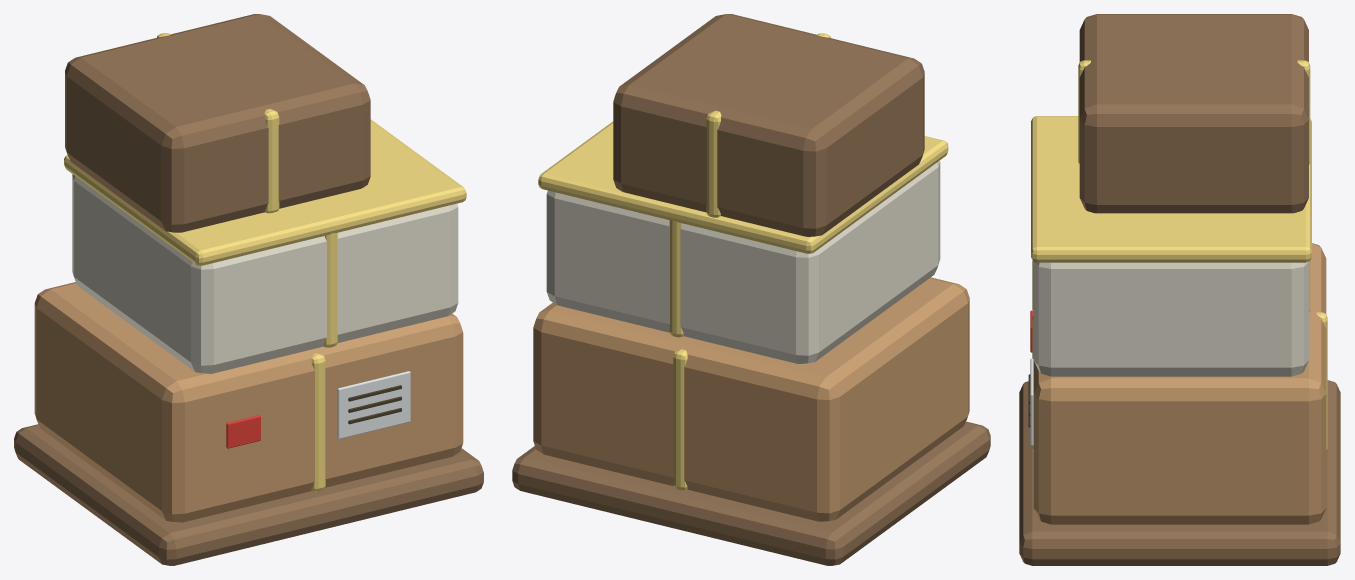
The model's file is decor_cargo_crate_stack.glb.
3 renders of one model, left to right at view 1: azimuth 30°, elevation 25°; view 2: azimuth 150°, elevation 25°; view 3: azimuth 270°, elevation 25°, orthographic. The views are drawn at different scales.
Visible parts, largest first — view 1: DEC_CargoCrateStack__Crate_1, DEC_CargoCrateStack__Crate_3, DEC_CargoCrateStack__Crate_2, DEC_CargoCrateStack__Pallet, DEC_CargoCrateStack__Wrap, DEC_CargoCrateStack__Label, DEC_CargoCrateStack__Crate_1_Band, DEC_CargoCrateStack__Crate_2_Band, DEC_CargoCrateStack__Crate_3_Band, DEC_CargoCrateStack__Stamp; view 2: DEC_CargoCrateStack__Crate_1, DEC_CargoCrateStack__Crate_3, DEC_CargoCrateStack__Crate_2, DEC_CargoCrateStack__Pallet, DEC_CargoCrateStack__Wrap, DEC_CargoCrateStack__Crate_1_Band, DEC_CargoCrateStack__Crate_2_Band, DEC_CargoCrateStack__Crate_3_Band; view 3: DEC_CargoCrateStack__Crate_1, DEC_CargoCrateStack__Crate_3, DEC_CargoCrateStack__Crate_2, DEC_CargoCrateStack__Wrap, DEC_CargoCrateStack__Pallet, DEC_CargoCrateStack__Crate_3_Band, DEC_CargoCrateStack__Crate_1_Band.
Part boxes in pixels (x1=…): DEC_CargoCrateStack__Crate_1: x1=34, y1=282, x2=463, y2=522; DEC_CargoCrateStack__Crate_3: x1=65, y1=14, x2=370, y2=232; DEC_CargoCrateStack__Crate_2: x1=72, y1=174, x2=458, y2=373; DEC_CargoCrateStack__Pallet: x1=14, y1=424, x2=483, y2=565; DEC_CargoCrateStack__Wrap: x1=64, y1=119, x2=466, y2=265; DEC_CargoCrateStack__Label: x1=337, y1=371, x2=410, y2=439; DEC_CargoCrateStack__Crate_1_Band: x1=311, y1=353, x2=325, y2=491; DEC_CargoCrateStack__Crate_2_Band: x1=323, y1=233, x2=337, y2=347; DEC_CargoCrateStack__Crate_3_Band: x1=157, y1=33, x2=279, y2=213; DEC_CargoCrateStack__Stamp: x1=226, y1=415, x2=260, y2=448; DEC_CargoCrateStack__Crate_1: x1=533, y1=277, x2=969, y2=521; DEC_CargoCrateStack__Crate_3: x1=613, y1=14, x2=924, y2=236; DEC_CargoCrateStack__Crate_2: x1=546, y1=160, x2=940, y2=364; DEC_CargoCrateStack__Pallet: x1=512, y1=421, x2=990, y2=565; DEC_CargoCrateStack__Wrap: x1=538, y1=121, x2=948, y2=253; DEC_CargoCrateStack__Crate_1_Band: x1=673, y1=349, x2=687, y2=490; DEC_CargoCrateStack__Crate_2_Band: x1=669, y1=220, x2=683, y2=337; DEC_CargoCrateStack__Crate_3_Band: x1=706, y1=33, x2=830, y2=217; DEC_CargoCrateStack__Crate_1: x1=1033, y1=243, x2=1326, y2=524; DEC_CargoCrateStack__Crate_3: x1=1079, y1=14, x2=1308, y2=213; DEC_CargoCrateStack__Crate_2: x1=1033, y1=262, x2=1308, y2=376; DEC_CargoCrateStack__Wrap: x1=1031, y1=116, x2=1311, y2=262; DEC_CargoCrateStack__Pallet: x1=1019, y1=380, x2=1340, y2=565; DEC_CargoCrateStack__Crate_3_Band: x1=1078, y1=60, x2=1310, y2=164; DEC_CargoCrateStack__Crate_1_Band: x1=1032, y1=312, x2=1327, y2=450.
Bounding box in the file's own units: 1.34 × 1.61 × 1.12.
